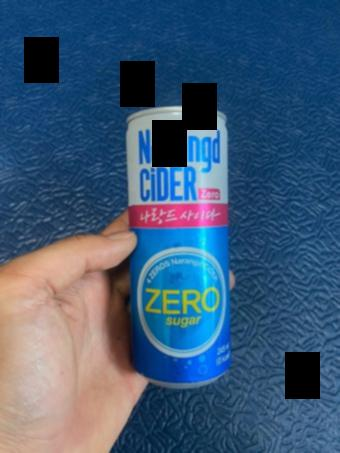narangdcider: (124, 102, 233, 389)
